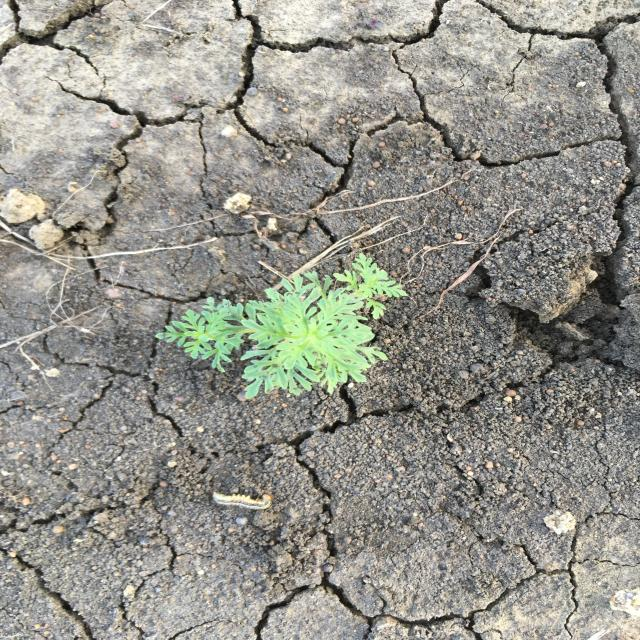Ragweed: (154, 251, 410, 401)
